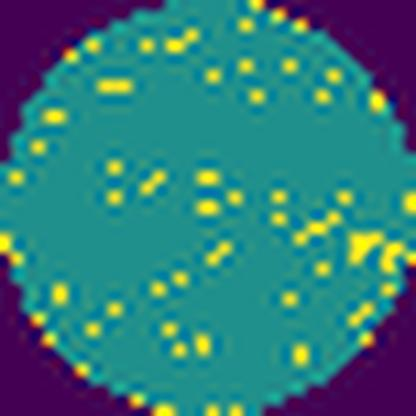Loc: (347, 229, 403, 276)
